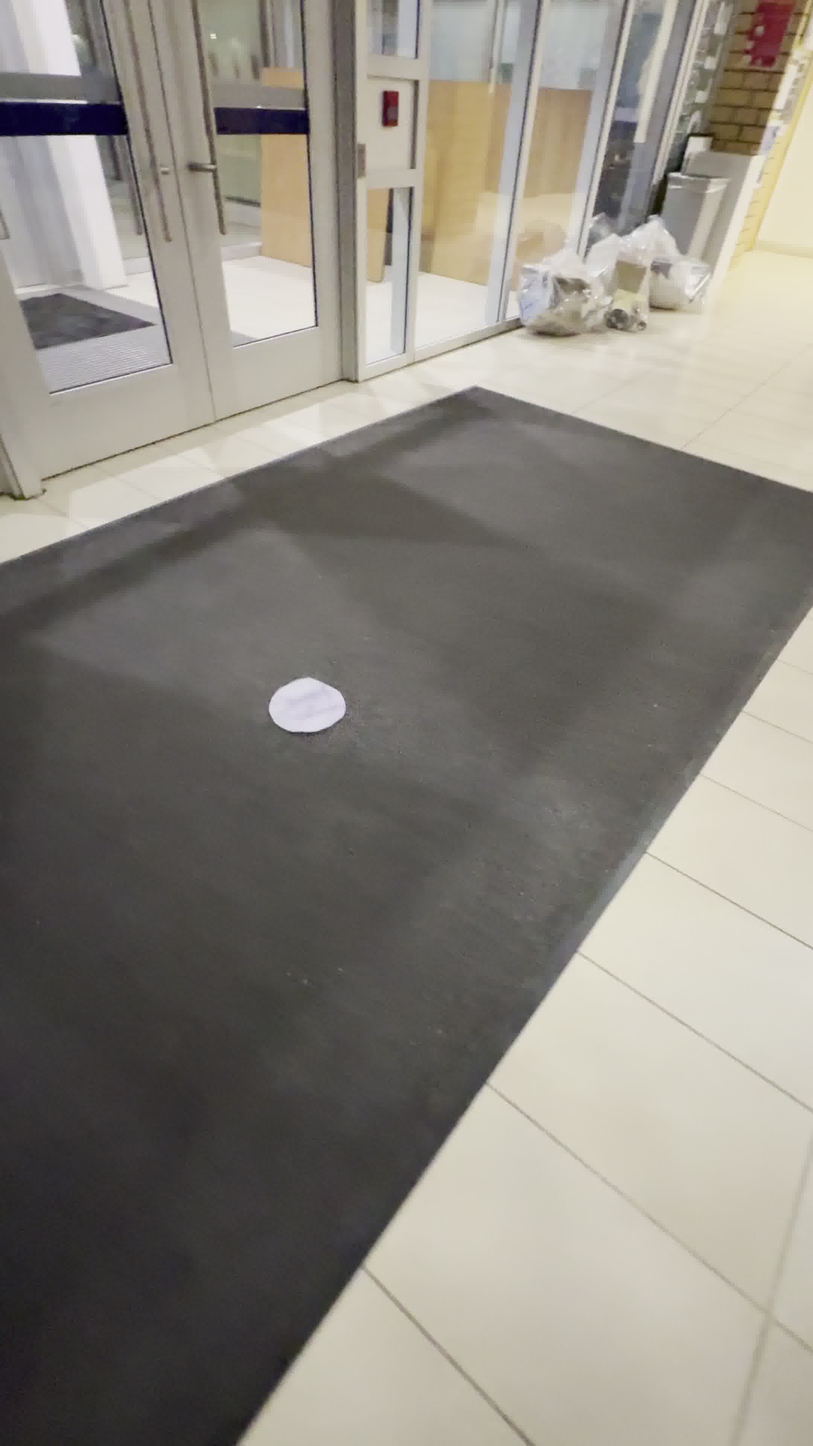Target: (267, 675, 347, 735)
